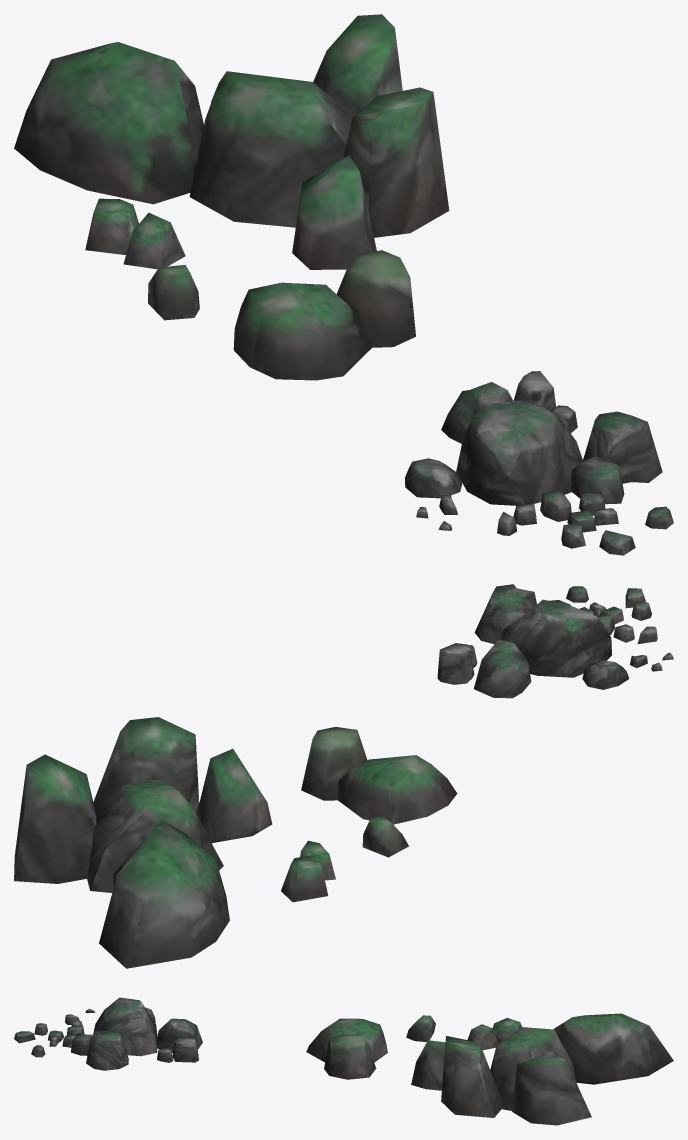
File: Area_08_28.fbx
3 views of the same model, one above another, from view 1: azimuth 30°, elevation 25°; view 2: azimuth 150°, elevation 25°; view 3: azimuth 270°, elevation 25° (orthographic). The views are drawn at different scales.
Parts seen in each view (by area): view 1: Area_08_28; view 2: Area_08_28; view 3: Area_08_28.
Boxes of the visible parts, bbox=[...] form: Area_08_28: bbox=[14, 14, 673, 555]; Area_08_28: bbox=[14, 584, 673, 968]; Area_08_28: bbox=[14, 997, 673, 1125].
Size of the model in its own units: 1047 by 300 by 2822.
